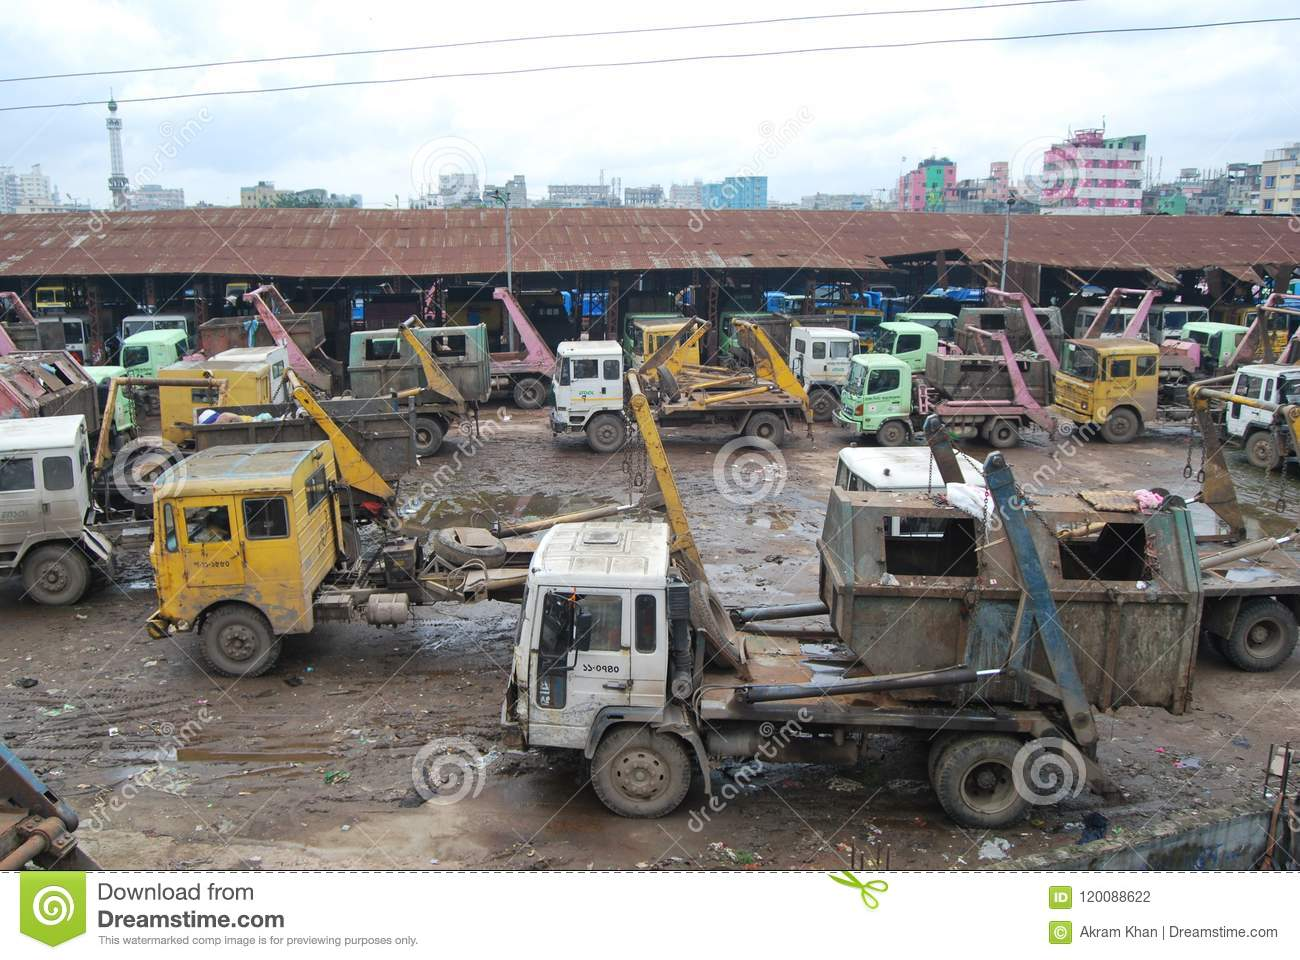motorbike: (497, 377, 1204, 820), (144, 378, 535, 667), (546, 327, 819, 452), (839, 337, 1057, 447)
